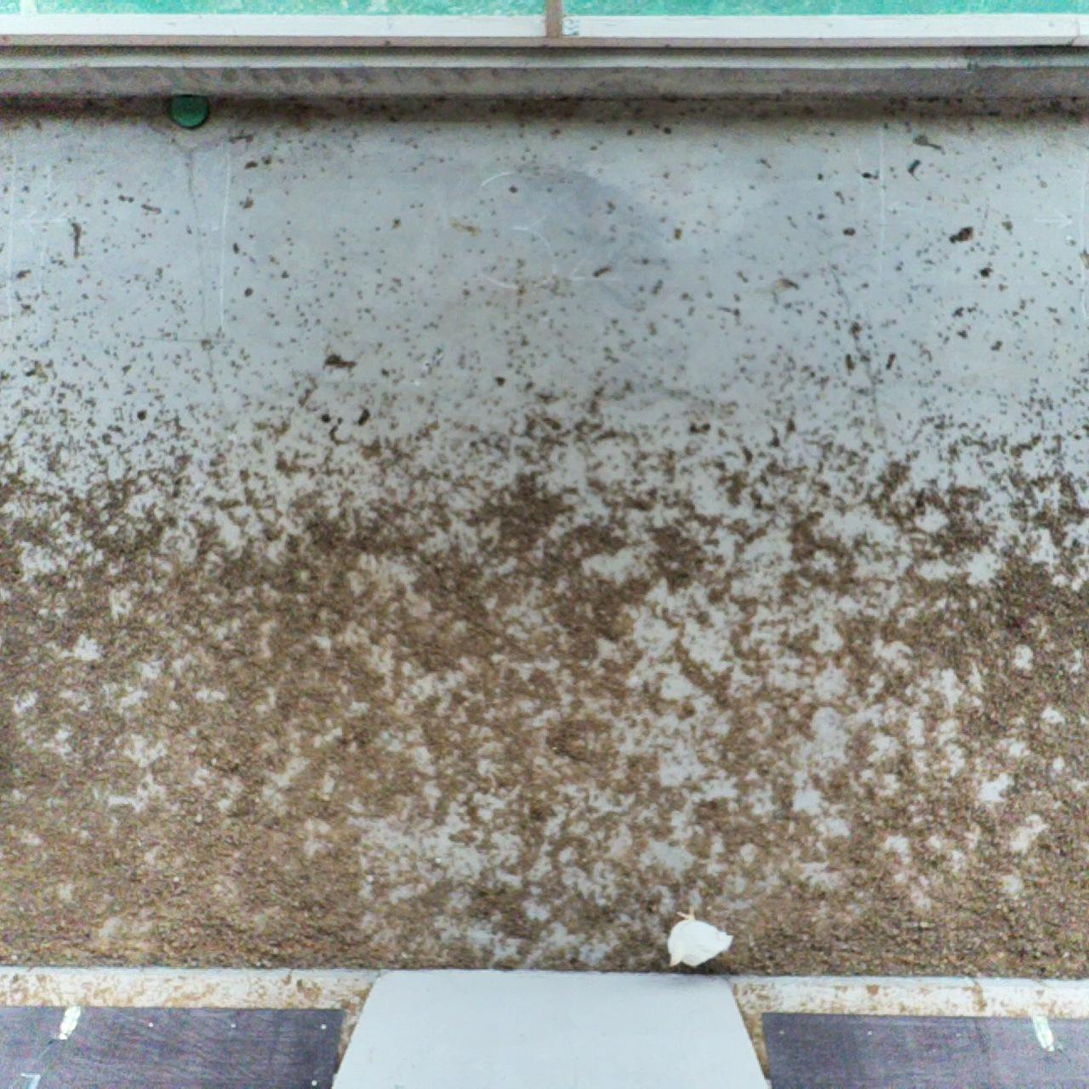chicken: (663, 902, 737, 974)
